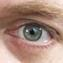eye: (23, 26, 41, 41)
